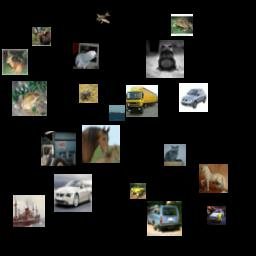airplane: (95, 10, 111, 26)
automobile: (54, 174, 92, 212), (147, 201, 182, 236), (179, 83, 208, 112), (207, 206, 226, 225)
bird: (73, 43, 99, 69)
cat: (164, 144, 186, 166)
deer: (2, 49, 28, 75), (32, 27, 51, 46)
frog: (146, 40, 184, 78), (12, 81, 47, 116), (171, 14, 193, 36), (79, 84, 98, 103)
ship: (13, 195, 45, 227), (109, 105, 125, 121)
truck: (41, 131, 76, 166), (126, 85, 158, 117), (130, 183, 146, 199)
